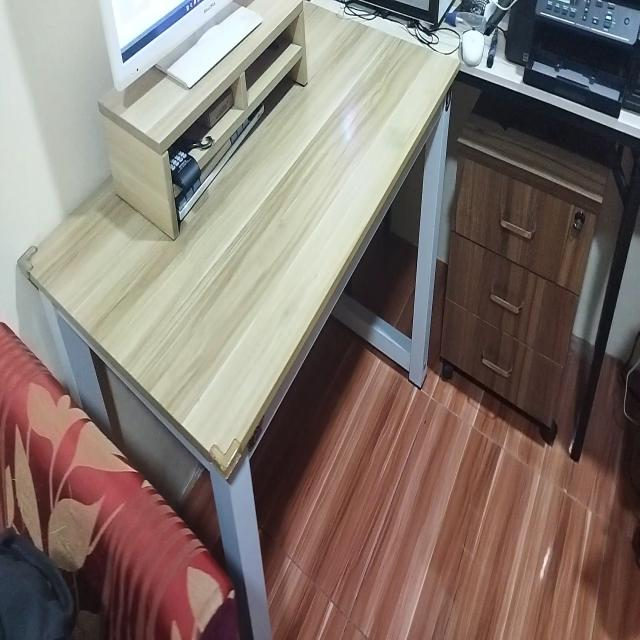table: (22, 0, 456, 504)
